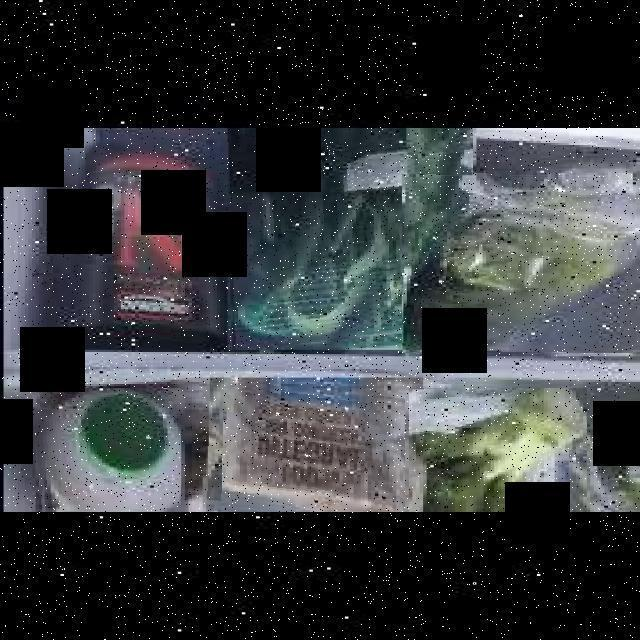bread: (206, 378, 420, 512)
broccoli: (405, 388, 587, 512)
green_beans: (224, 128, 473, 350)
milk: (32, 388, 181, 512)
salad: (402, 174, 636, 353)
